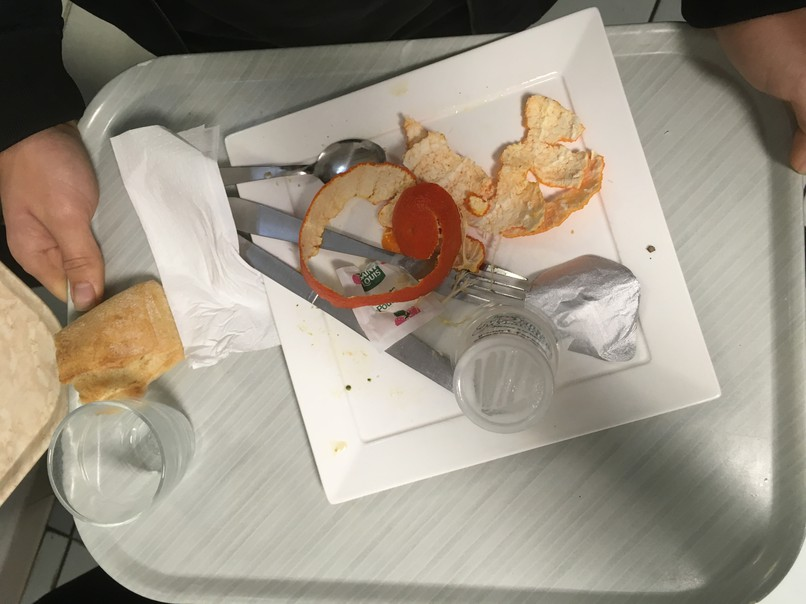cup: (40, 393, 211, 526)
cutlery: (208, 138, 390, 180)
orga: (405, 109, 606, 234), (313, 164, 461, 255), (54, 290, 182, 386)
trash: (145, 130, 275, 342), (462, 307, 558, 433), (533, 262, 647, 361), (341, 259, 450, 340)
